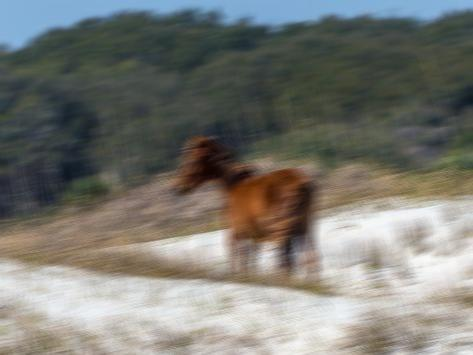horse: (171, 133, 319, 284)
